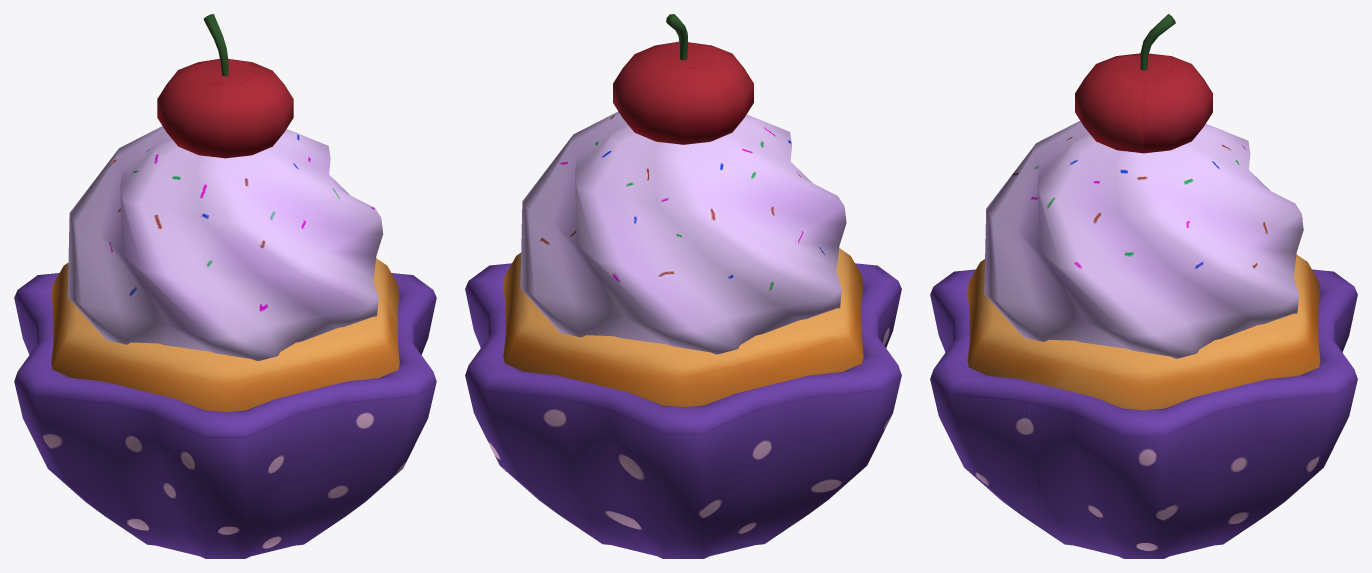
The model's file is Mdl_Cupcake.fbx.
3 views of the same model, side by side, from view 1: azimuth 30°, elevation 25°; view 2: azimuth 150°, elevation 25°; view 3: azimuth 270°, elevation 25° (orthographic). The views are drawn at different scales.
Visible parts, largest first — view 1: Mesh_Cupcake; view 2: Mesh_Cupcake; view 3: Mesh_Cupcake.
Part boxes in pixels (<box>): Mesh_Cupcake: <box>14,14,436,558</box>; Mesh_Cupcake: <box>465,14,901,558</box>; Mesh_Cupcake: <box>930,14,1357,558</box>.
Size of the model in its own units: 248 by 291 by 225.
